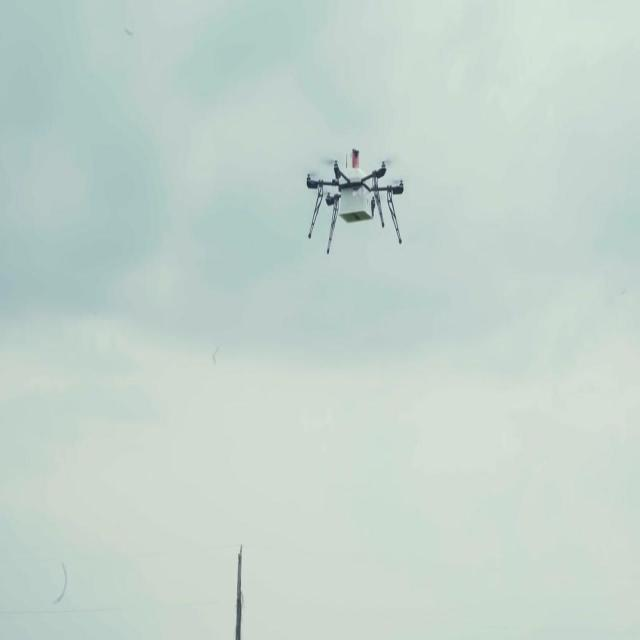UAV: (306, 148, 404, 254)
